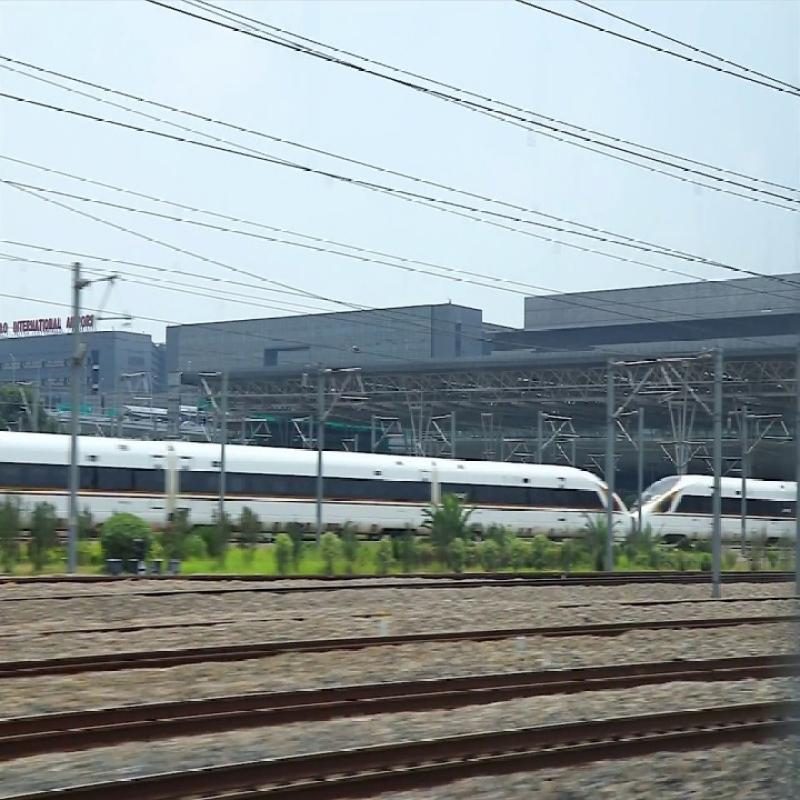train: (12, 412, 786, 554)
